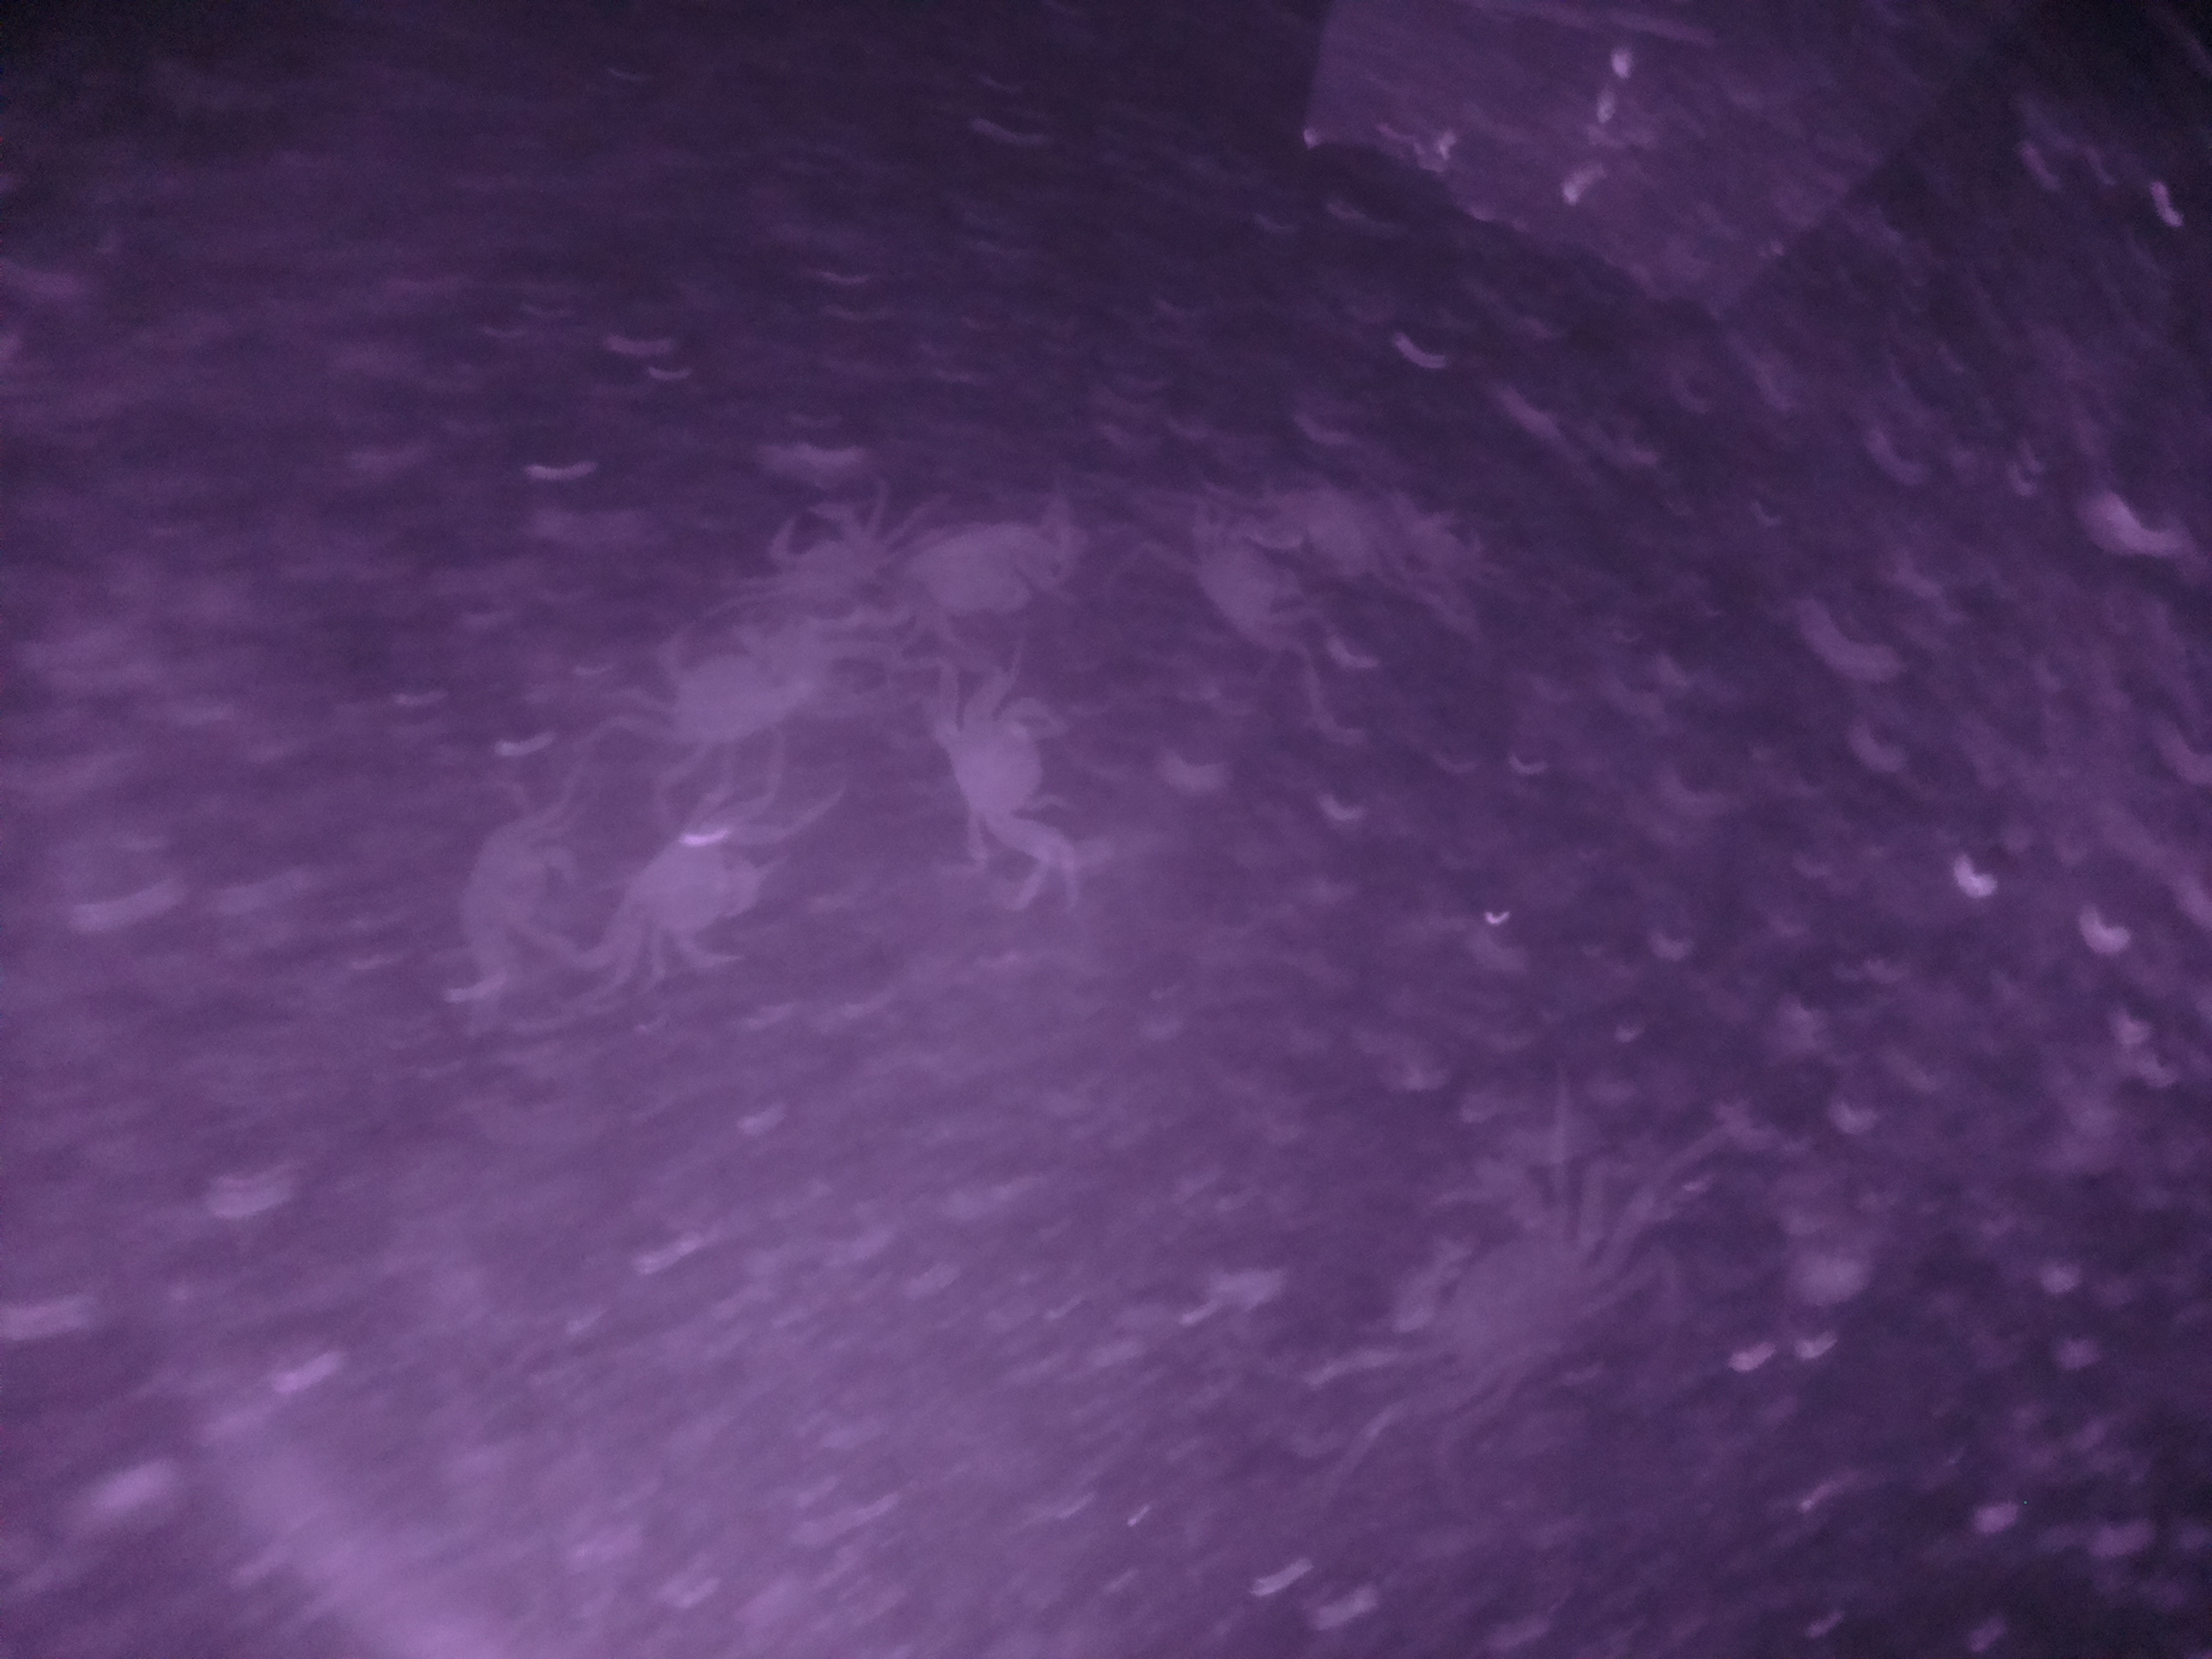Crab: (603, 788, 786, 981), (932, 676, 1080, 861)
